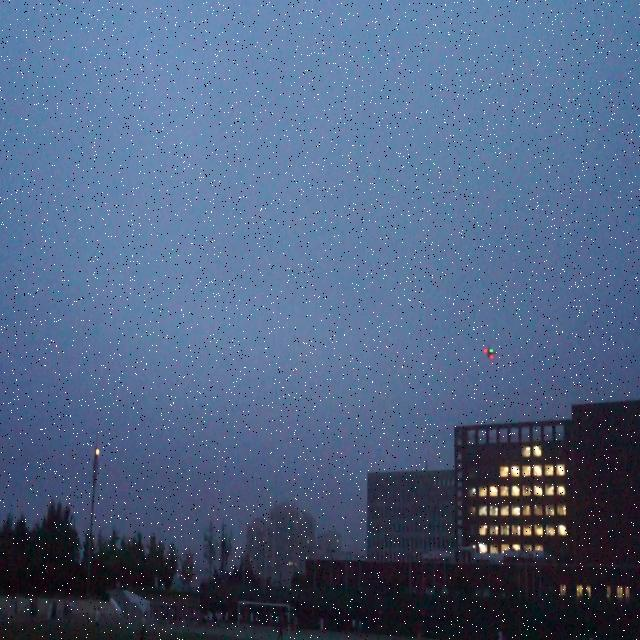UAV: (483, 347, 497, 360)
